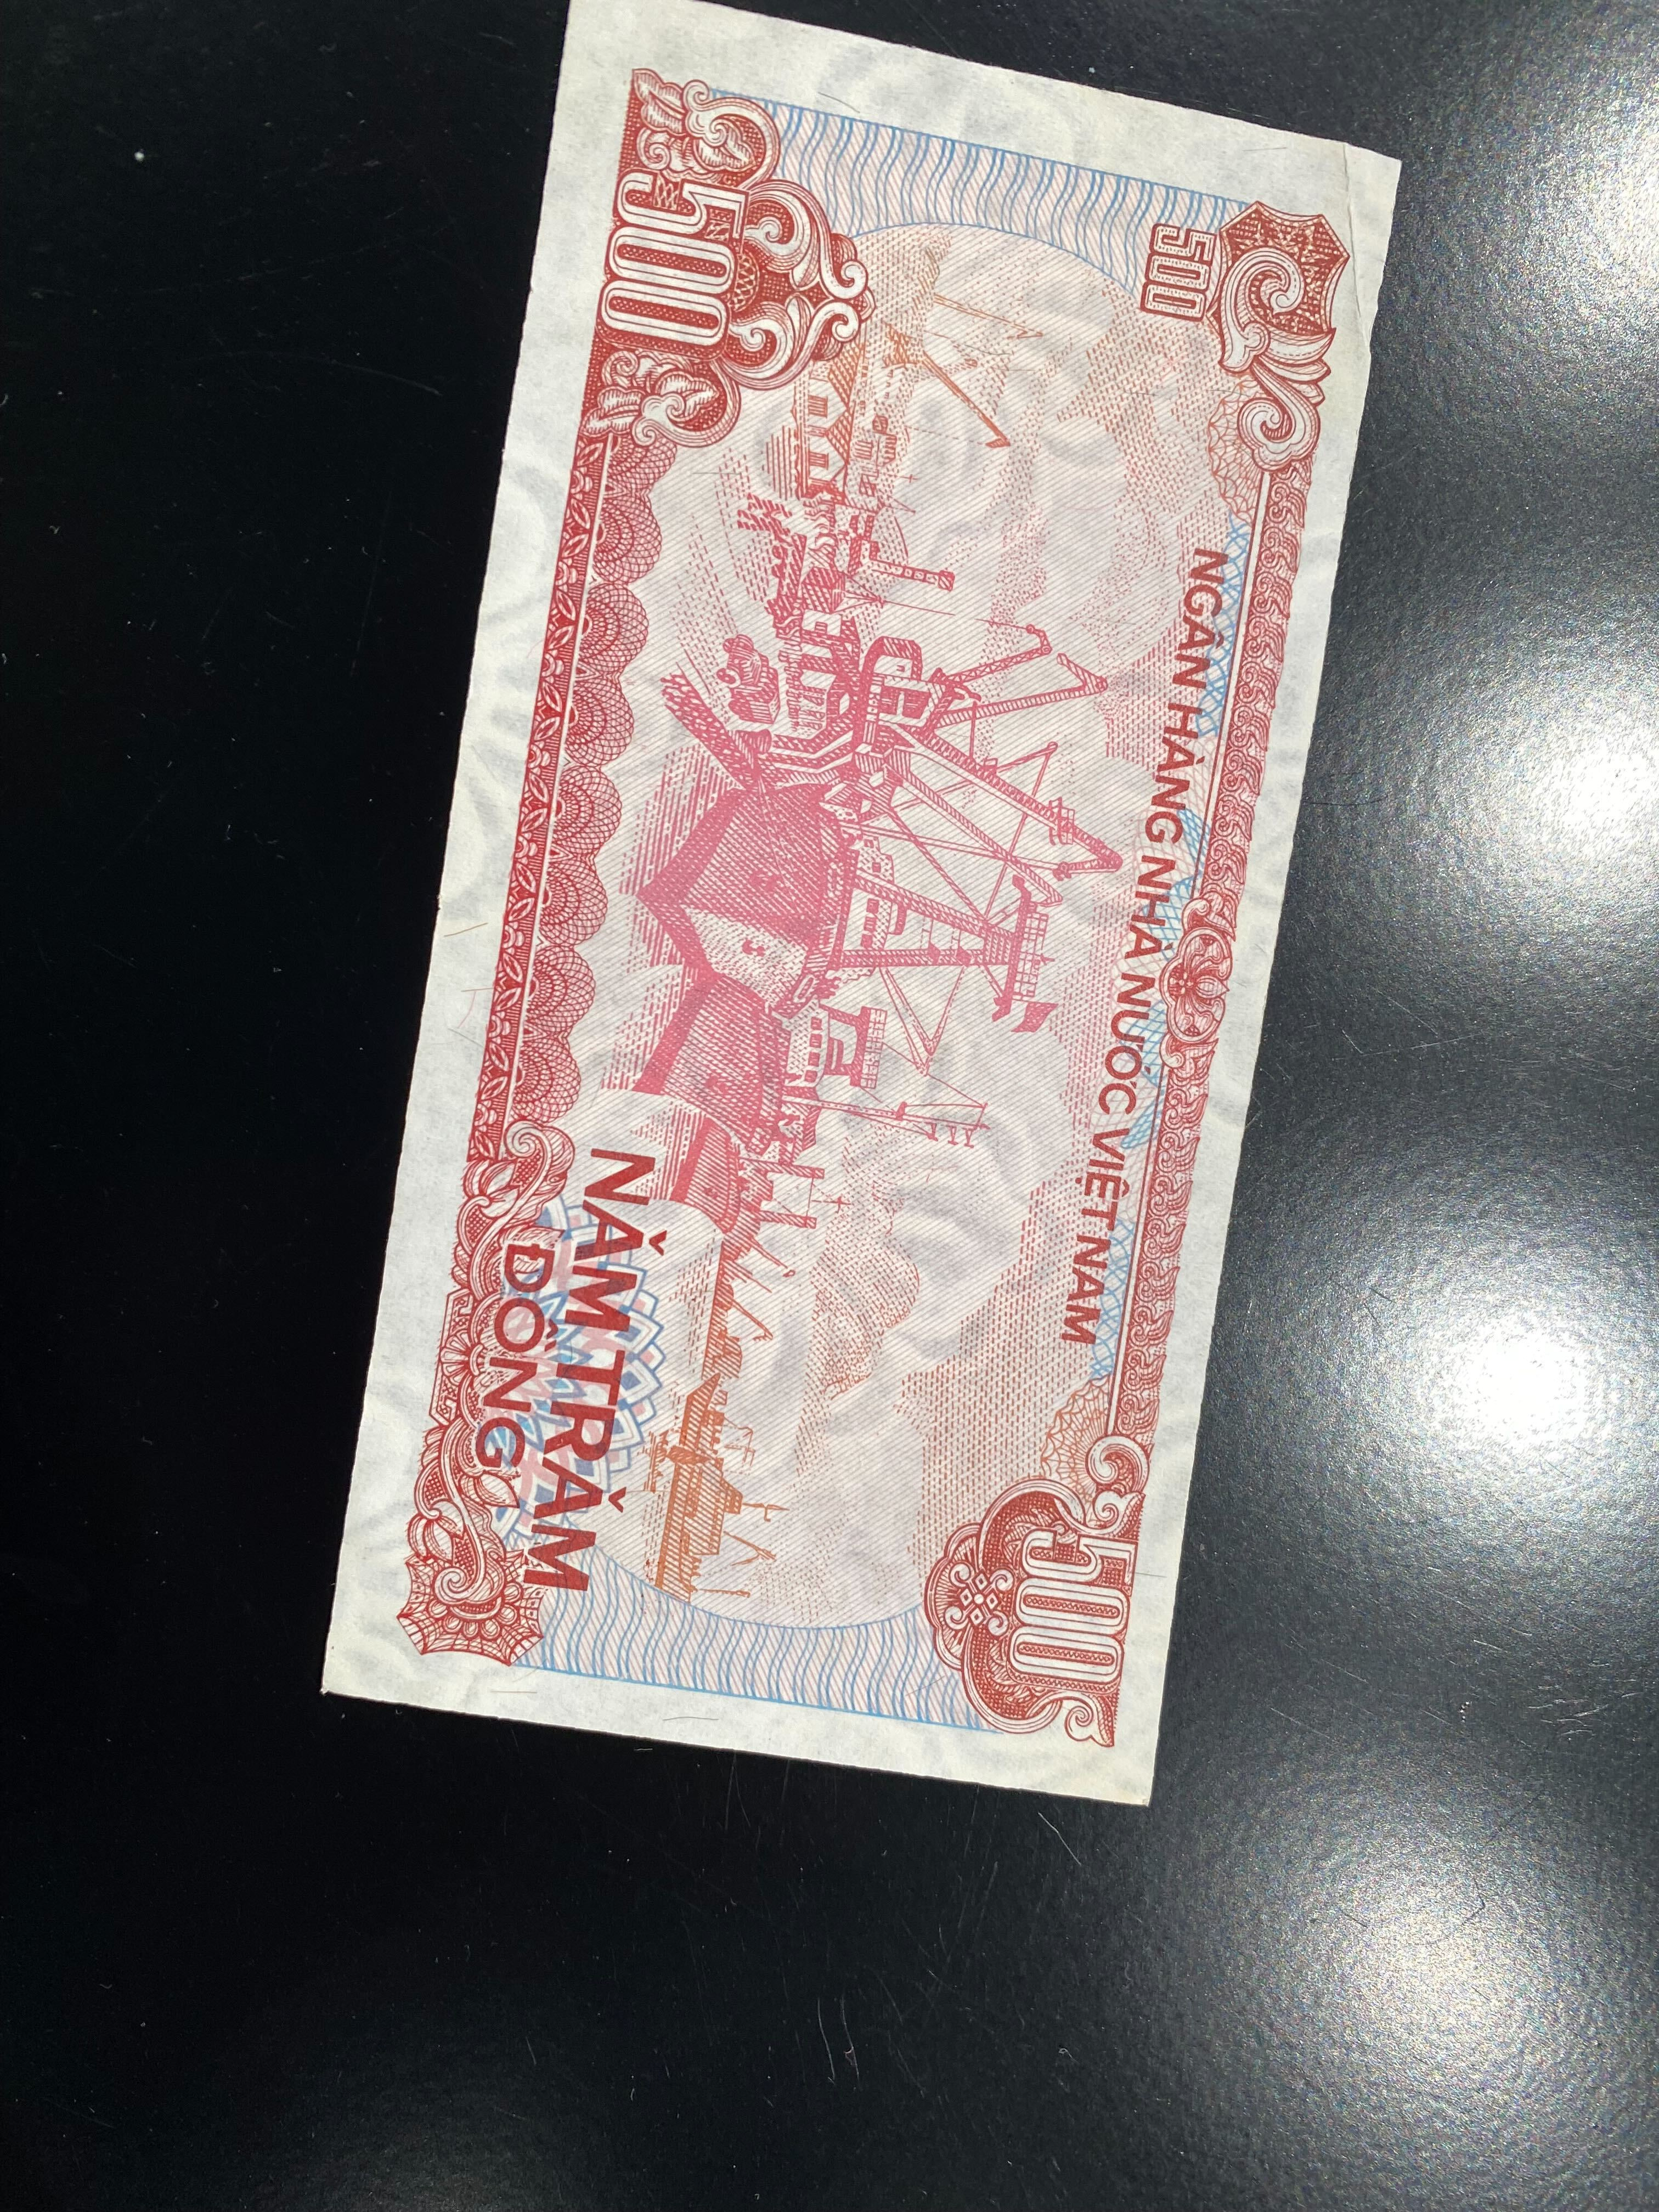500vnd: (326, 39, 1401, 1807)
